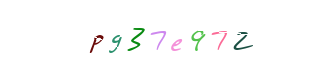2: (201, 0, 281, 80)
3: (114, 0, 194, 80)
7: (125, 0, 205, 80), (151, 0, 231, 80)
9: (136, 0, 216, 80)
E: (130, 0, 210, 80)
G: (96, 0, 176, 80)
P: (56, 0, 136, 80)
